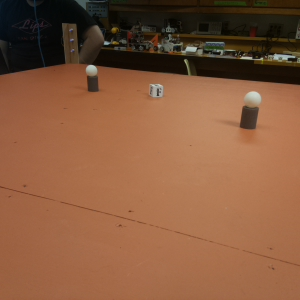blockF: (148, 82, 165, 98)
corner: (63, 22, 79, 65)
obstacle: (238, 90, 262, 130), (85, 63, 100, 93)
